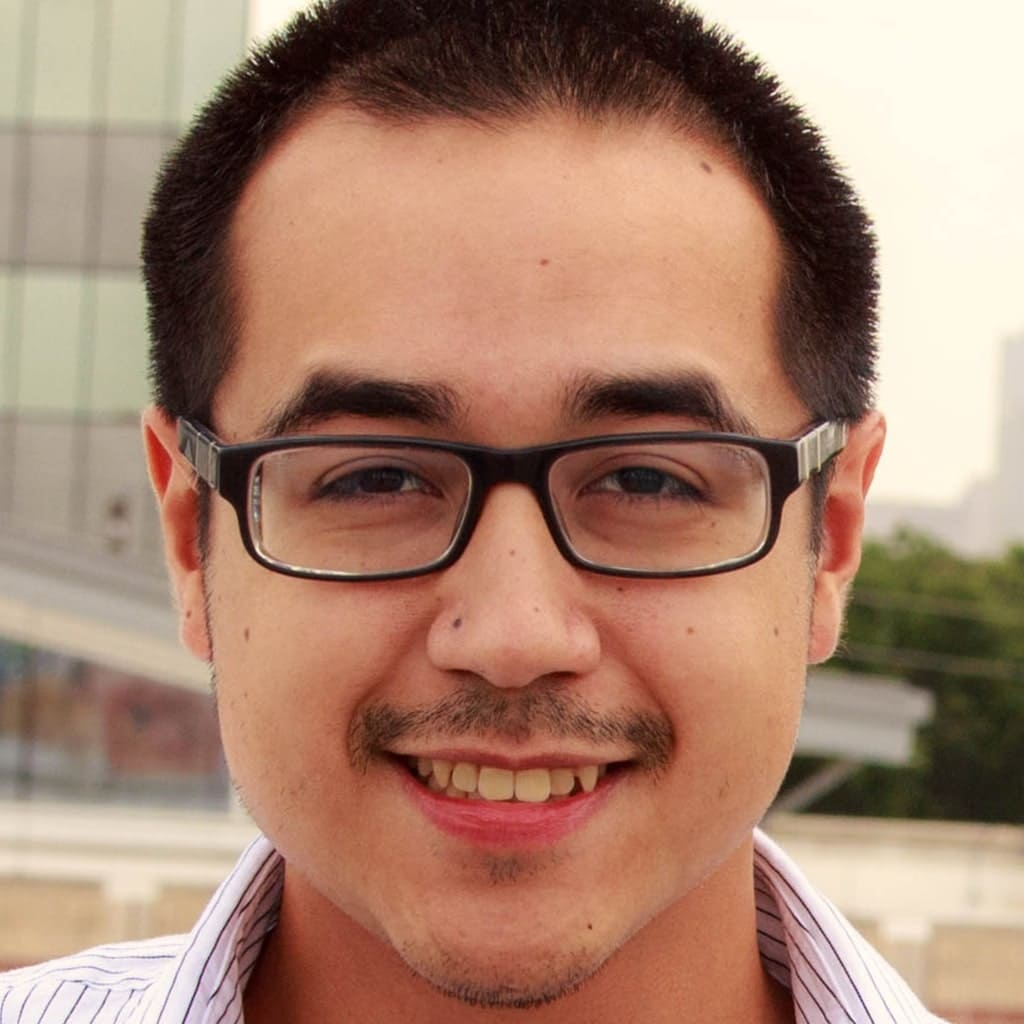without_mask: (228, 131, 820, 998)
